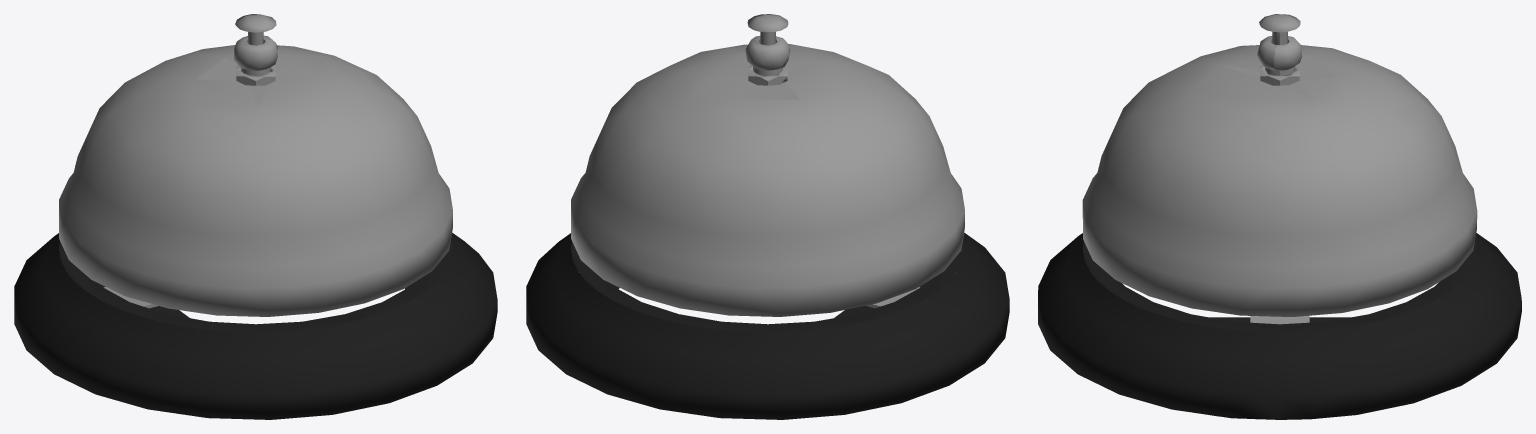
The model's file is recepcionist_bell.glb.
3 renders of one model, left to right at view 1: azimuth 30°, elevation 25°; view 2: azimuth 150°, elevation 25°; view 3: azimuth 270°, elevation 25°, orthographic.
Parts seen in each view (by area): view 1: Table_Bell; view 2: Table_Bell; view 3: Table_Bell.
Part boxes in pixels (box(x1,y1,x2,y2)): Table_Bell: box(14, 14, 497, 419); Table_Bell: box(526, 14, 1009, 419); Table_Bell: box(1038, 14, 1521, 419).
Size of the model in its own units: 0.0841 by 0.0577 by 0.0842.
Materials: 1 (1 with a texture image).
